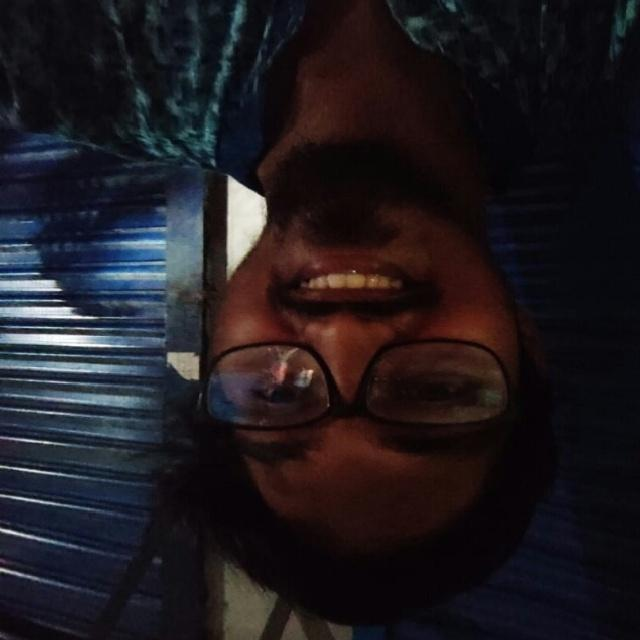Happy: (133, 84, 558, 640)
